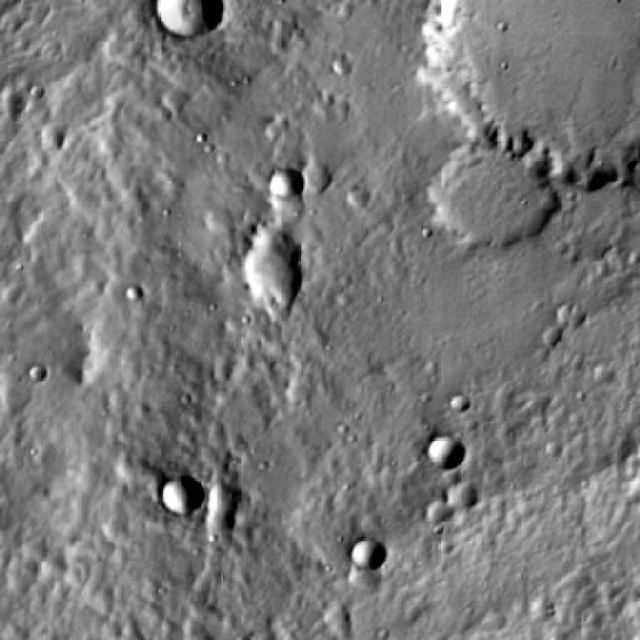crater: (430, 138, 555, 250), (231, 245, 306, 312), (152, 0, 223, 35), (160, 476, 202, 515), (268, 164, 306, 196), (427, 437, 462, 469), (267, 190, 301, 222), (297, 160, 331, 191), (350, 542, 385, 572), (211, 477, 243, 506), (348, 566, 381, 594), (317, 603, 348, 631), (446, 485, 477, 512), (210, 511, 241, 538), (201, 212, 227, 235), (37, 124, 63, 147), (523, 599, 546, 621), (427, 502, 450, 522), (330, 56, 352, 76), (348, 186, 369, 206), (538, 325, 560, 343), (592, 364, 612, 382), (556, 304, 576, 322), (452, 396, 471, 413)
